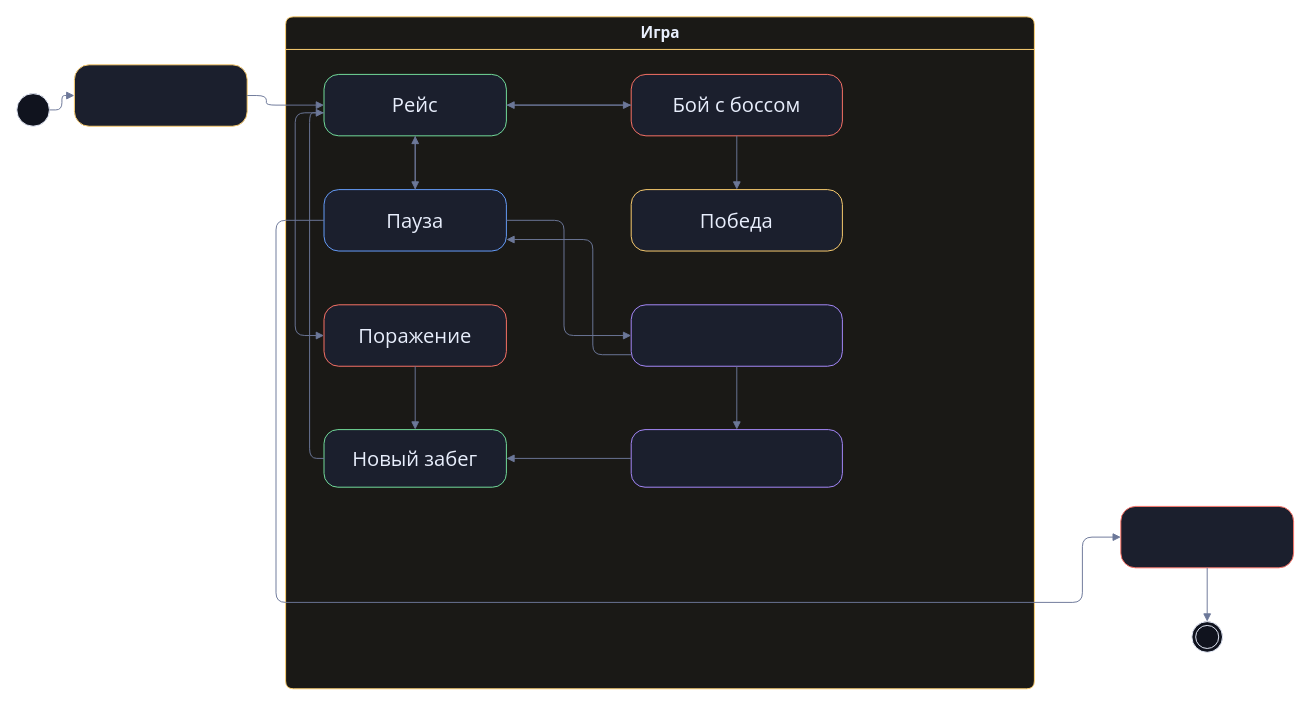
Some shapes in this 1310 by 706 pixel diagram are drawn without their labels. Each missing label, with the centre of its shape:
Выход: [1207,536]
Депо: [736,335]
Заставка: [160,95]
Перерождение: [736,458]
